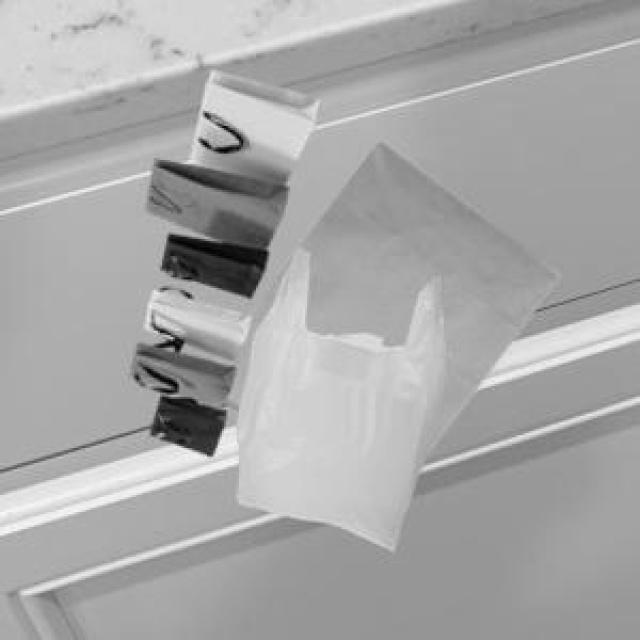paper: (211, 137, 555, 444), (126, 66, 316, 452)
